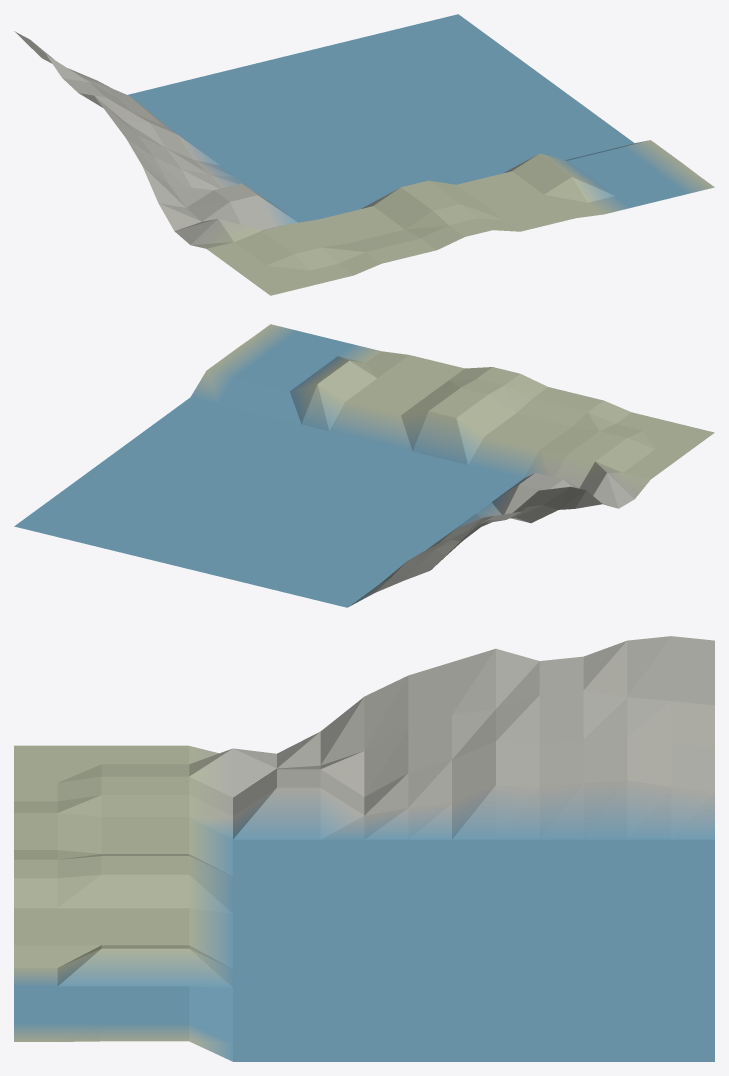
3 views of the same model, one above another, from view 1: azimuth 30°, elevation 25°; view 2: azimuth 150°, elevation 25°; view 3: azimuth 270°, elevation 25° (orthographic). The views are drawn at different scales.
Size of the model in its own units: 32 by 6.53 by 32.
